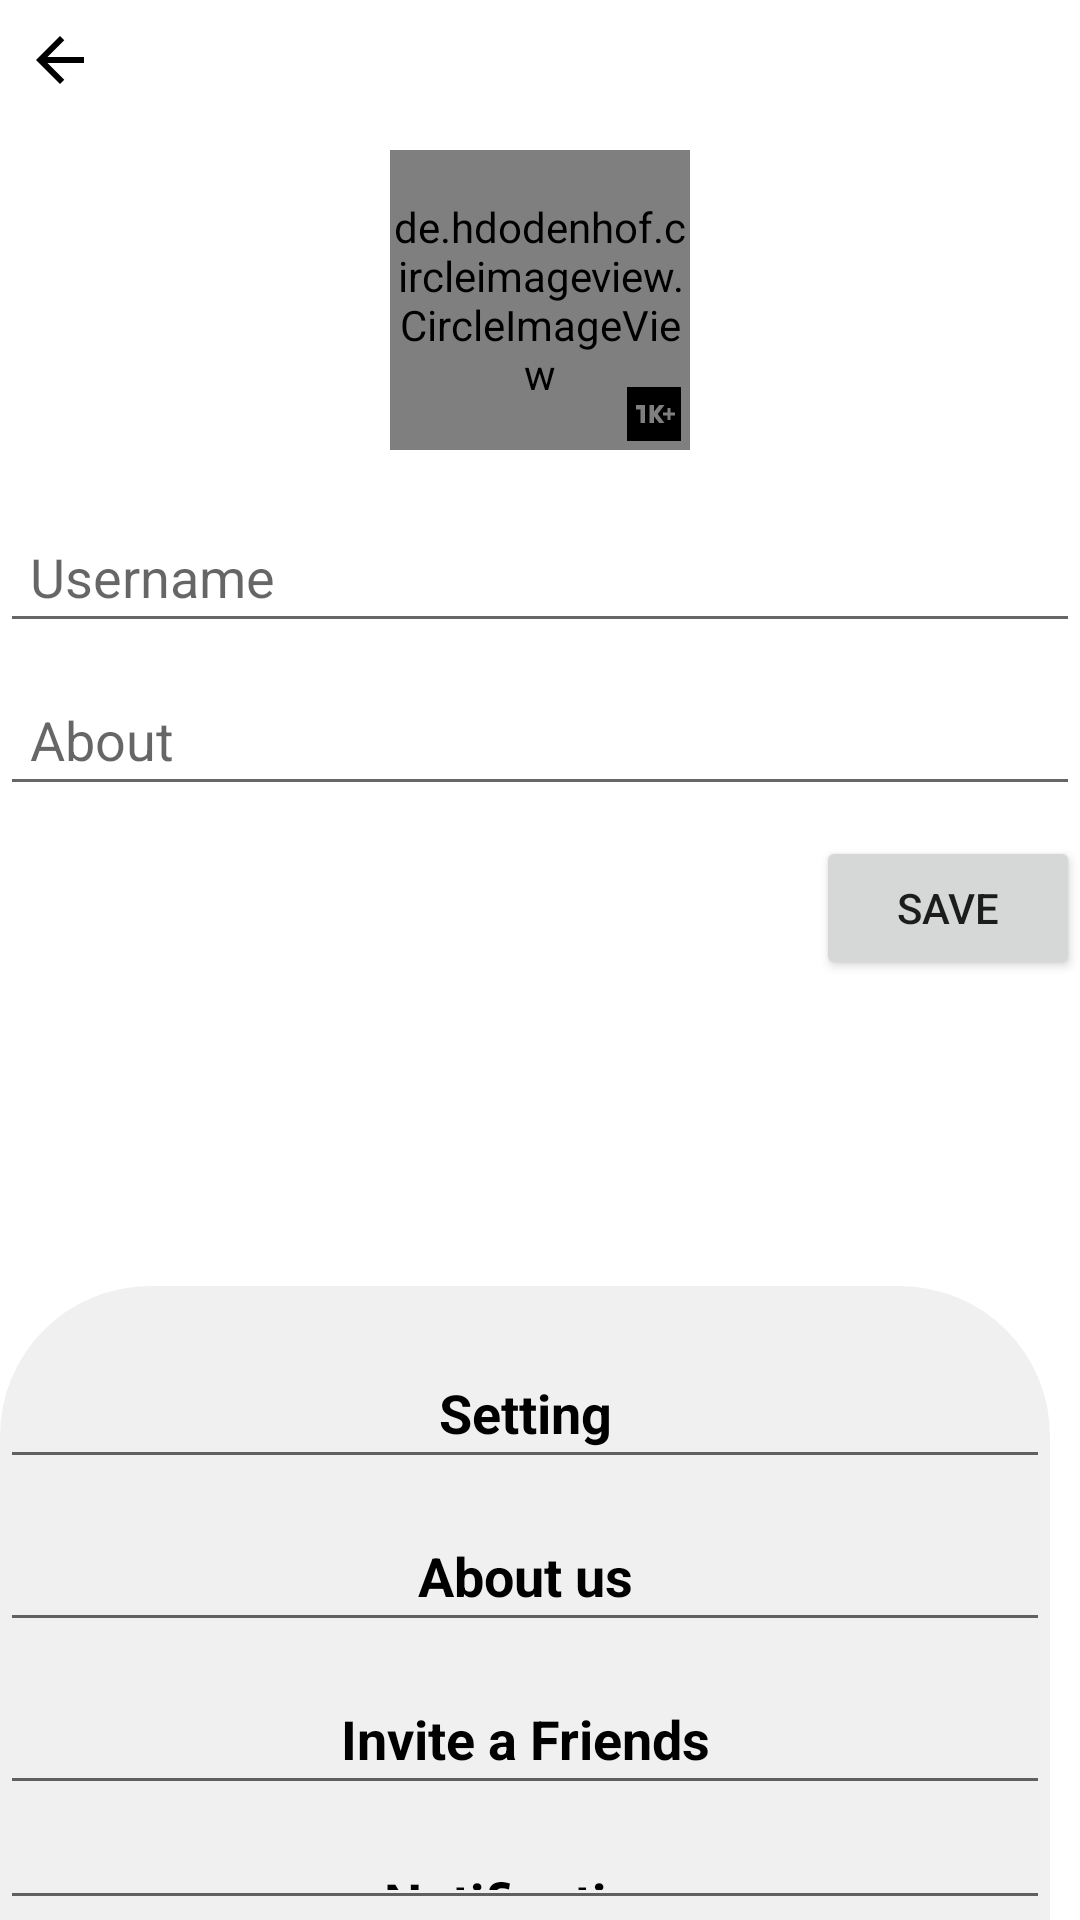

Named icons in this screenshot (1080 x 1920) and their bounding boxes, (x1, y1, x2, y2):
back: (36, 36, 84, 84)
